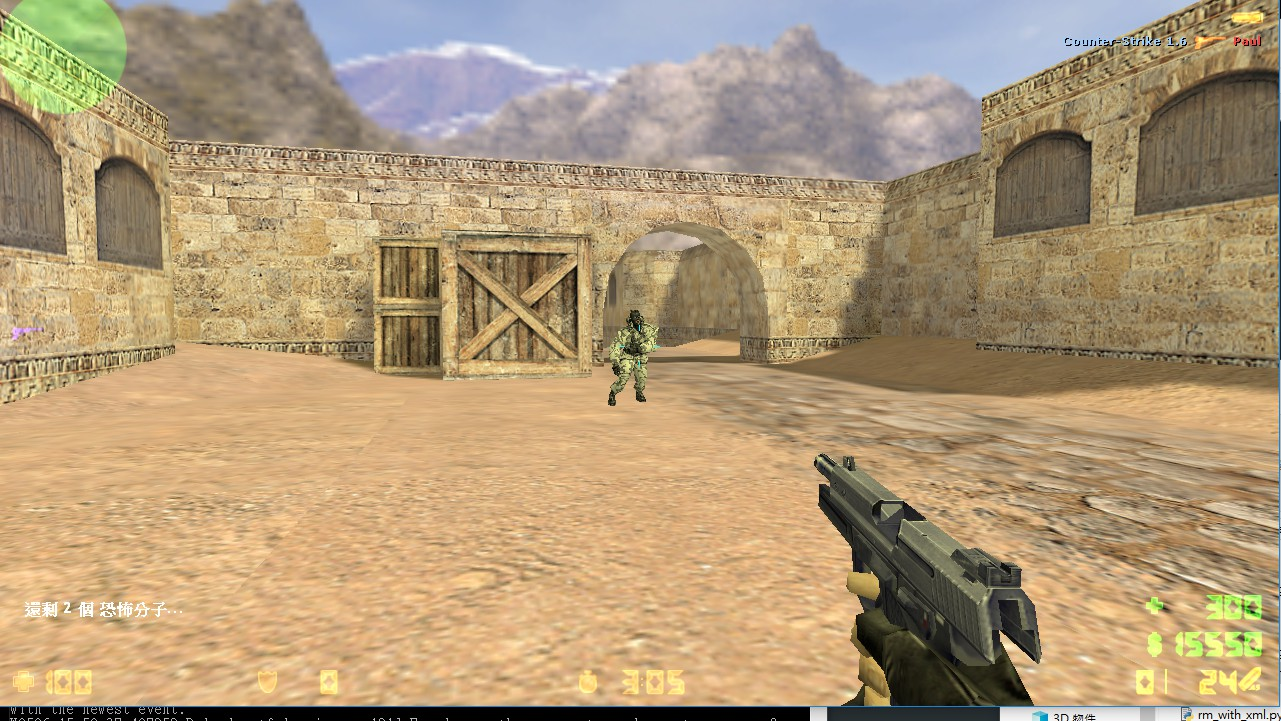person: (597, 307, 662, 411)
